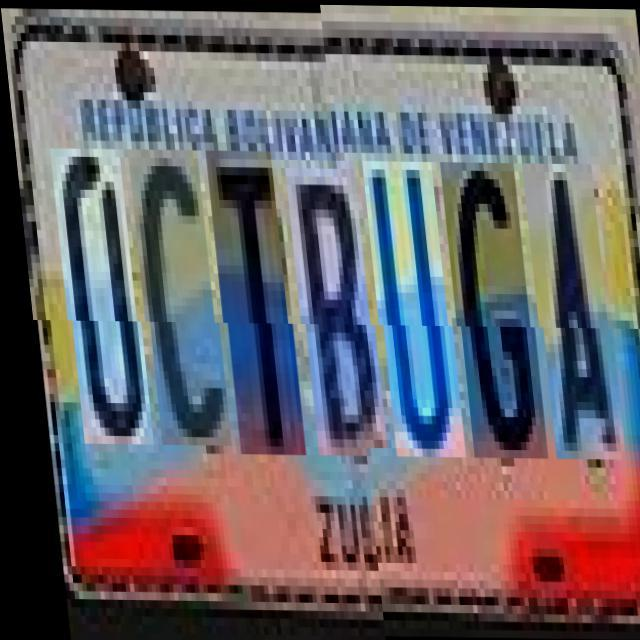0: (51, 148, 144, 444)
A: (524, 170, 617, 467)
B: (286, 167, 378, 455)
C: (129, 150, 222, 446)
G: (442, 170, 540, 466)
T: (206, 150, 296, 454)
U: (364, 168, 457, 464)
